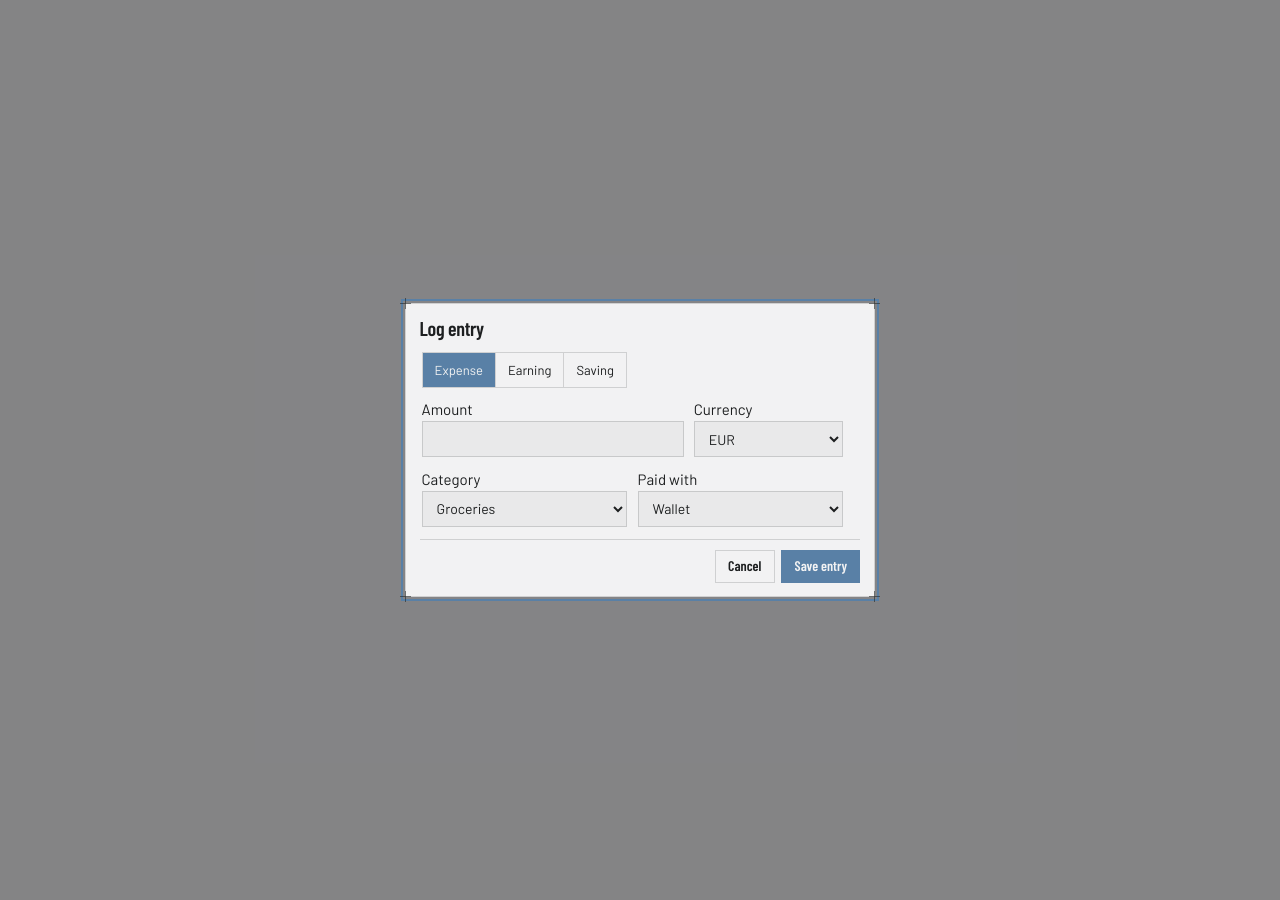
Test case: LogEntryForm - foreign currency (BR-8) › blocks the save with a clear error when no rate can be had, rather than guessing
Type "100" into the field labelled "Amount".
click(553, 440); type("100")  # box [422, 422, 684, 458]
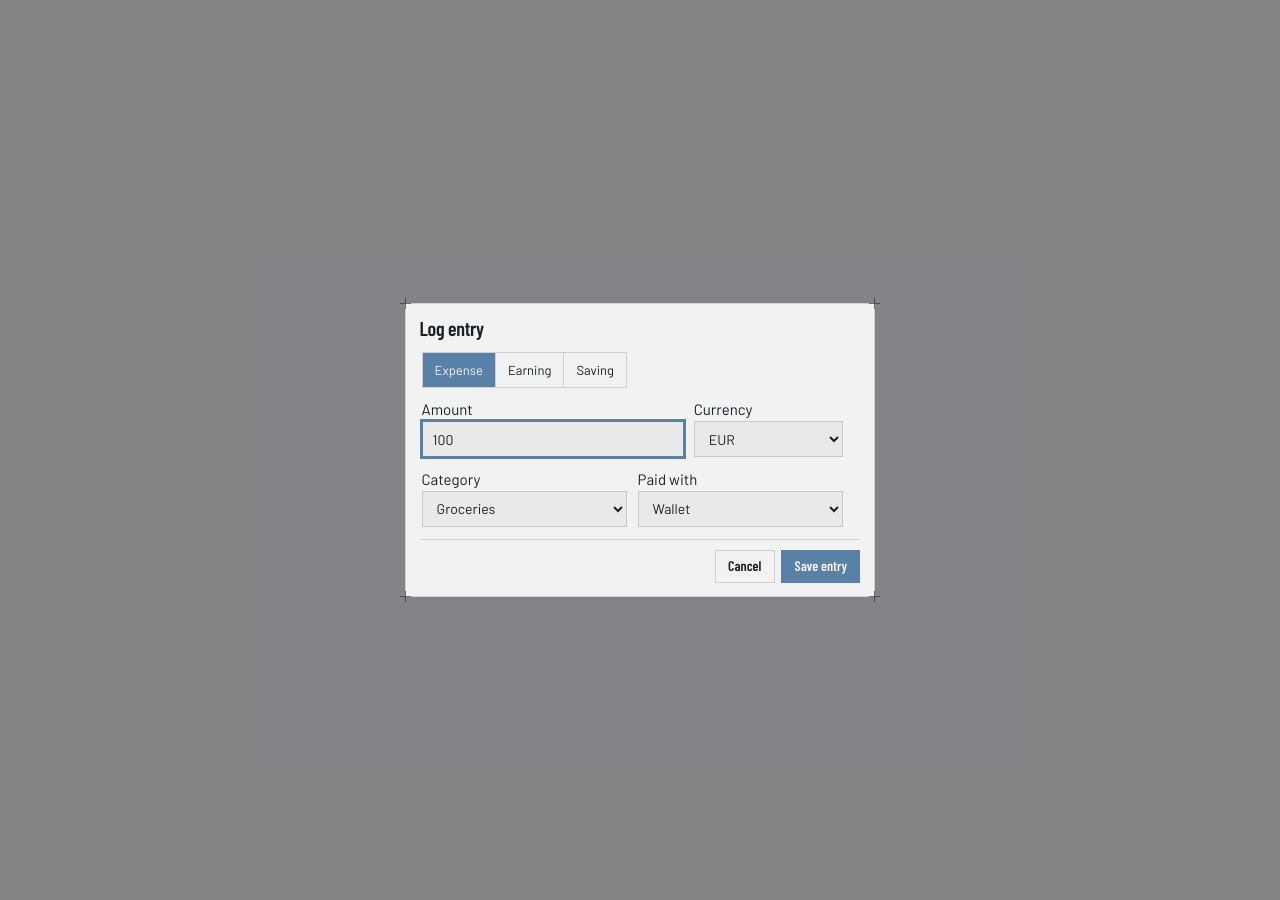
Select "USD" in the dropdown labelled "Currency" at (769,440), box [694, 422, 843, 458]
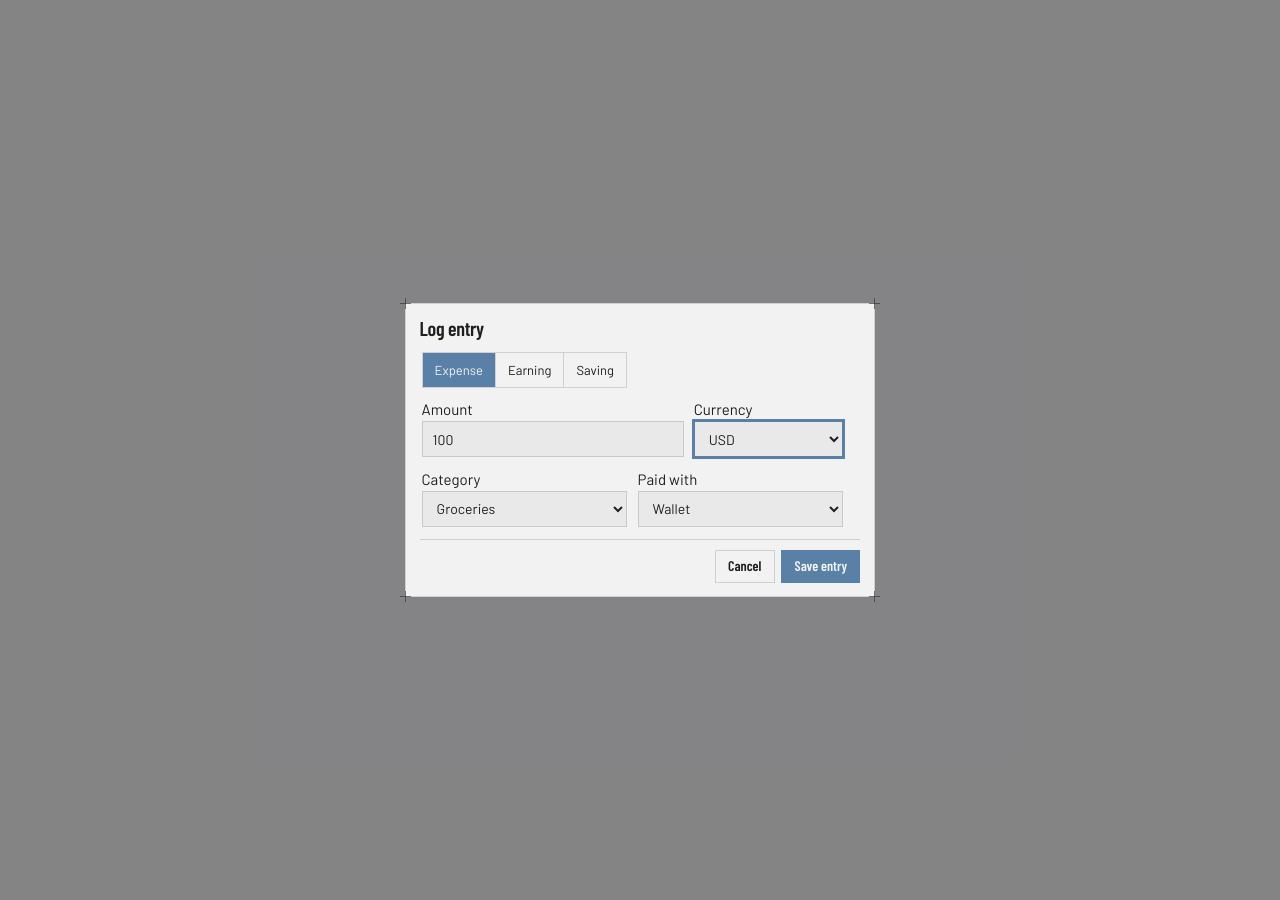
Click the button "Save entry".
click(821, 566)  # box [781, 550, 860, 583]
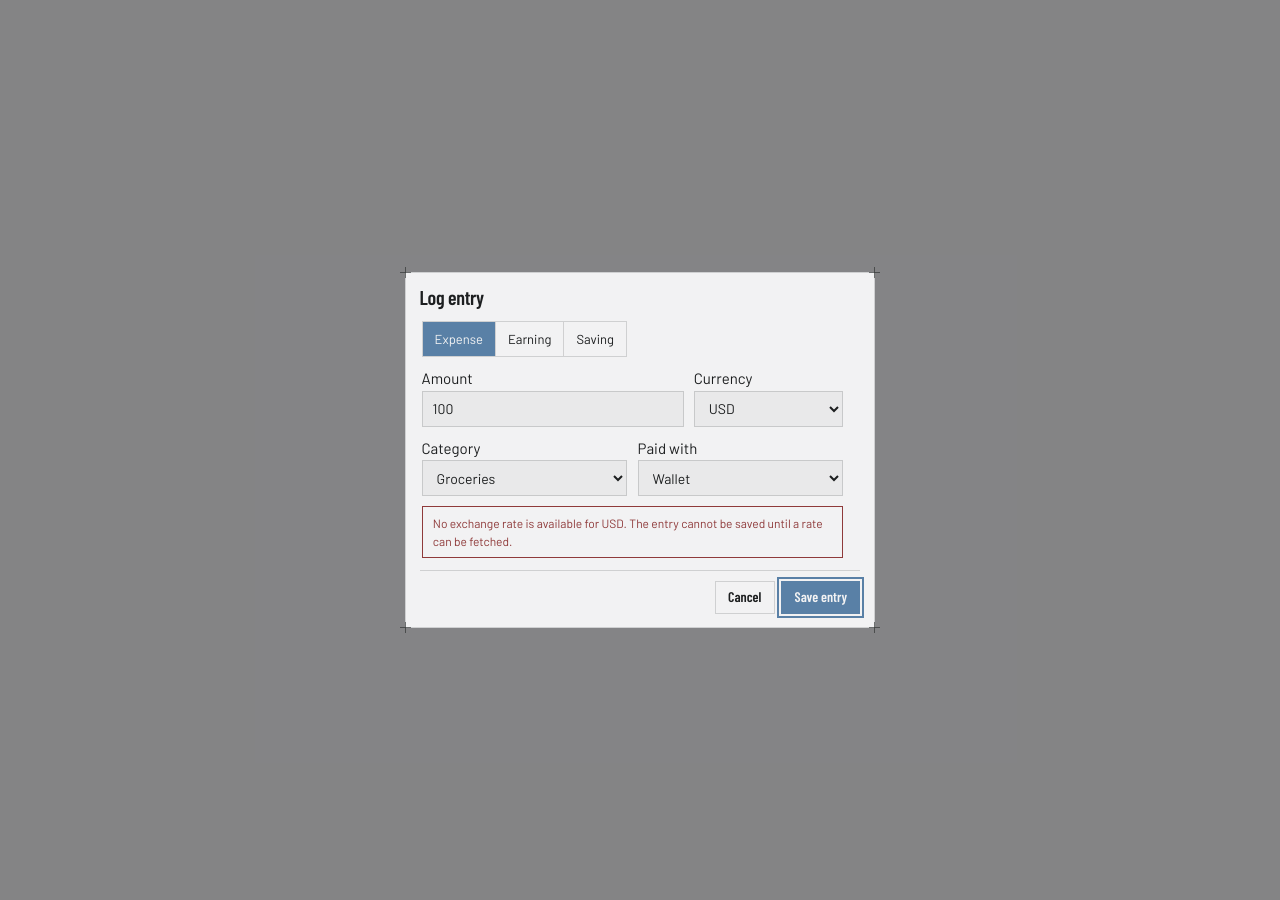
expect the message shows "exchange rate": met, box [433, 516, 823, 548]
